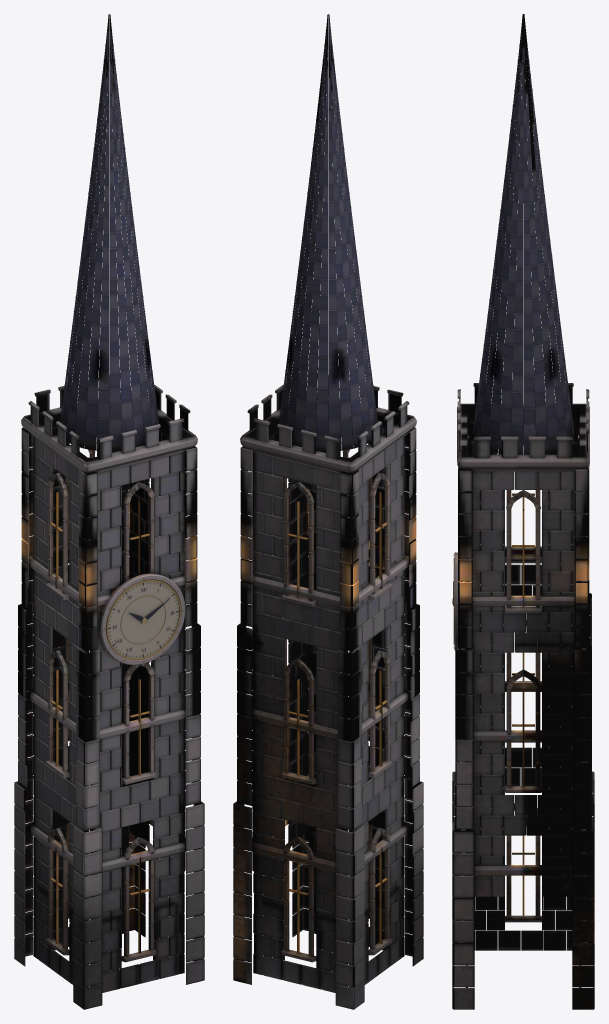
File: clocktower-sample.glb
3 views of the same model, side by side, from view 1: azimuth 30°, elevation 25°; view 2: azimuth 150°, elevation 25°; view 3: azimuth 270°, elevation 25° (orthographic).
Visible parts, largest first — view 1: clocktower_skin_receiver.001, clock_face_receiver.001; view 2: clocktower_skin_receiver.001; view 3: clocktower_skin_receiver.001, clock_face_receiver.001.
Boxes of the visible parts, box(x1,y1,x2,y2) form: clocktower_skin_receiver.001: box(14, 14, 204, 1009); clock_face_receiver.001: box(99, 573, 185, 665); clocktower_skin_receiver.001: box(233, 14, 423, 1009); clocktower_skin_receiver.001: box(452, 14, 594, 1009); clock_face_receiver.001: box(452, 552, 458, 650).
Size of the model in its own units: 6.46 by 48.41 by 6.46.
2 materials, 2 textured.
